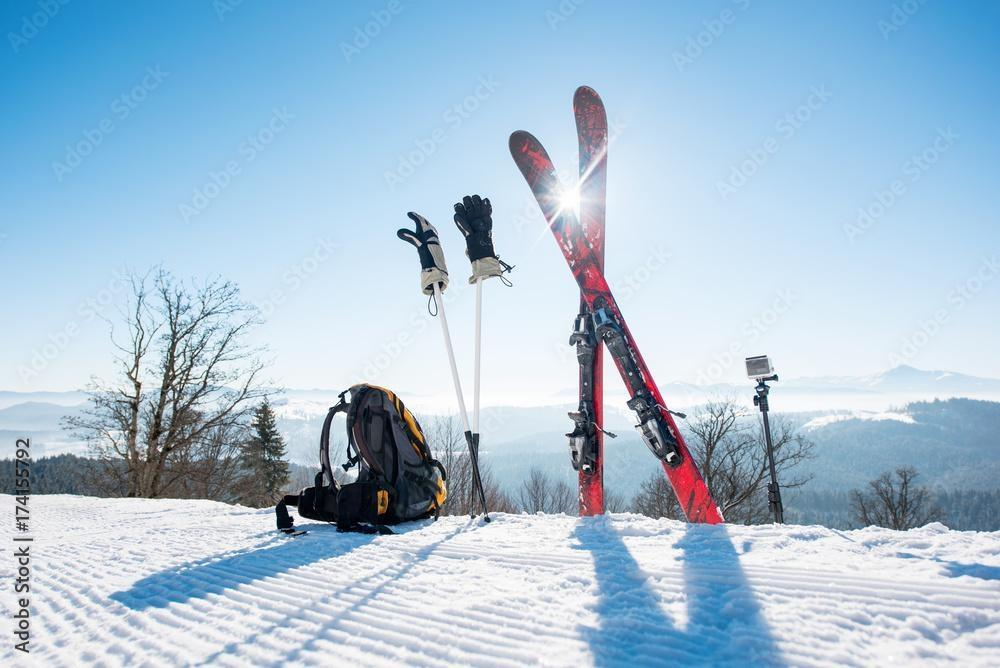Skis: (498, 65, 810, 553)
